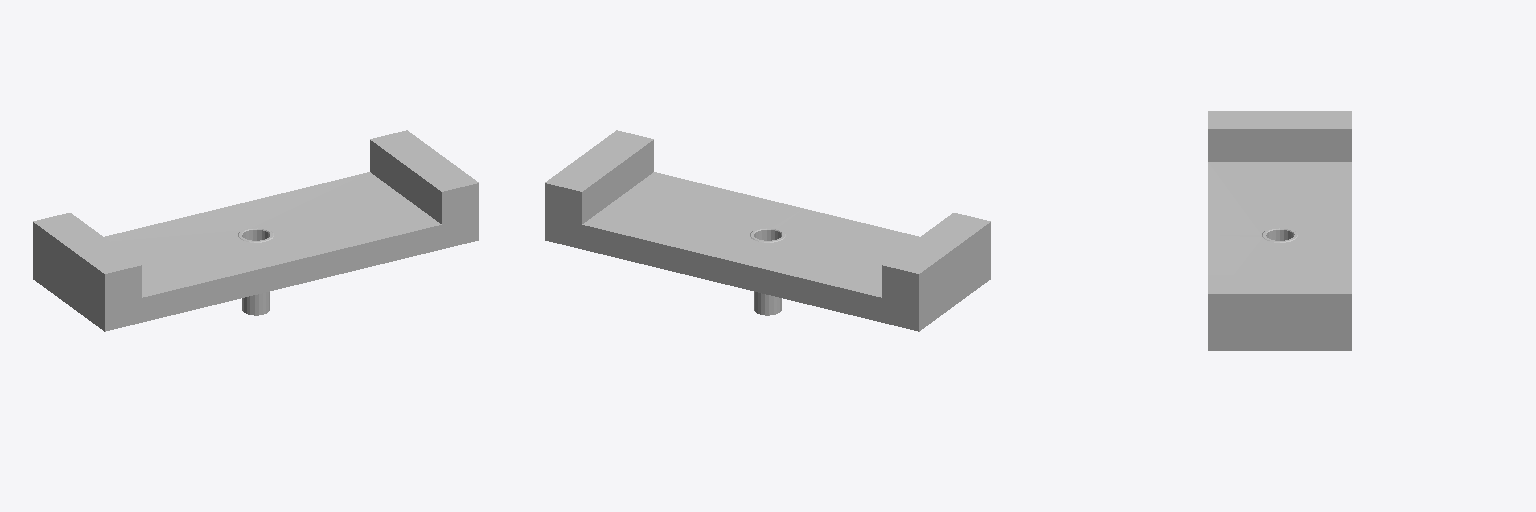
File: hole_1x3.obj
The picture shows the model from 3 angles: view 1: azimuth 30°, elevation 25°; view 2: azimuth 150°, elevation 25°; view 3: azimuth 270°, elevation 25°; orthographic projection.
Parts seen in each view (by area): view 1: end3; view 2: end3; view 3: end3.
Part boxes in pixels (x1,y1,x2,y2): end3: (33,130,478,331); end3: (545,130,990,331); end3: (1208,111,1351,350).
Size of the model in its own units: 3 by 0.8234 by 1.